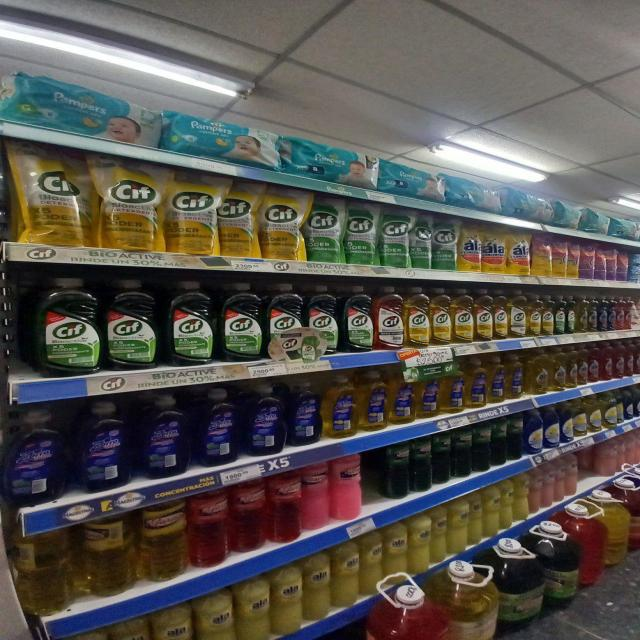ala_conc_amarillo: (549, 347, 565, 391), (566, 346, 578, 388), (578, 344, 588, 386)
ala_conc_rojo: (601, 341, 614, 380), (614, 340, 626, 378), (589, 342, 600, 383), (627, 342, 638, 378), (627, 293, 638, 329), (617, 296, 628, 330)
ala_crem_amarillo: (273, 566, 303, 636), (238, 578, 271, 640), (198, 591, 236, 640), (305, 552, 332, 620), (334, 540, 361, 608), (384, 523, 408, 579), (362, 532, 382, 598), (157, 606, 195, 640), (409, 514, 430, 574), (449, 499, 468, 555), (432, 506, 448, 564), (484, 485, 500, 539), (469, 491, 484, 546), (115, 619, 154, 640)
ala_sachet_amarillo: (458, 221, 482, 272), (483, 225, 506, 273), (508, 230, 531, 276)
cif_conc_bot_amarilla: (405, 286, 430, 348), (452, 287, 473, 344), (430, 287, 450, 345), (474, 288, 492, 341), (508, 290, 526, 338), (493, 288, 507, 340), (527, 292, 541, 336)
cif_conc_botella_roja: (374, 286, 404, 350)
cif_conc_botella_verde: (31, 277, 100, 376), (104, 278, 160, 371), (164, 280, 215, 366), (218, 282, 264, 362), (266, 283, 306, 362), (306, 284, 339, 356), (340, 285, 372, 353), (554, 294, 566, 335), (546, 294, 558, 335), (566, 295, 576, 334)
cif_conc_sachet_amarillo: (15, 142, 92, 245), (97, 158, 162, 251), (166, 169, 217, 255), (260, 185, 305, 260), (218, 179, 258, 257)
cif_conc_sachet_verde: (306, 194, 343, 263), (345, 200, 378, 265), (380, 205, 410, 268), (410, 212, 433, 269), (433, 218, 457, 270)
magistral_con_amarillo: (603, 391, 620, 429), (573, 397, 587, 437), (588, 394, 602, 432)
magistral_con_azul: (524, 412, 545, 455), (543, 408, 563, 448)
zorro: (73, 400, 133, 491), (138, 394, 190, 477), (193, 388, 239, 467), (242, 384, 284, 456), (286, 378, 320, 446), (322, 373, 355, 438), (356, 370, 386, 432), (388, 368, 412, 425), (438, 366, 464, 414), (414, 371, 437, 419), (466, 357, 486, 408), (486, 354, 504, 404), (506, 353, 524, 400)
